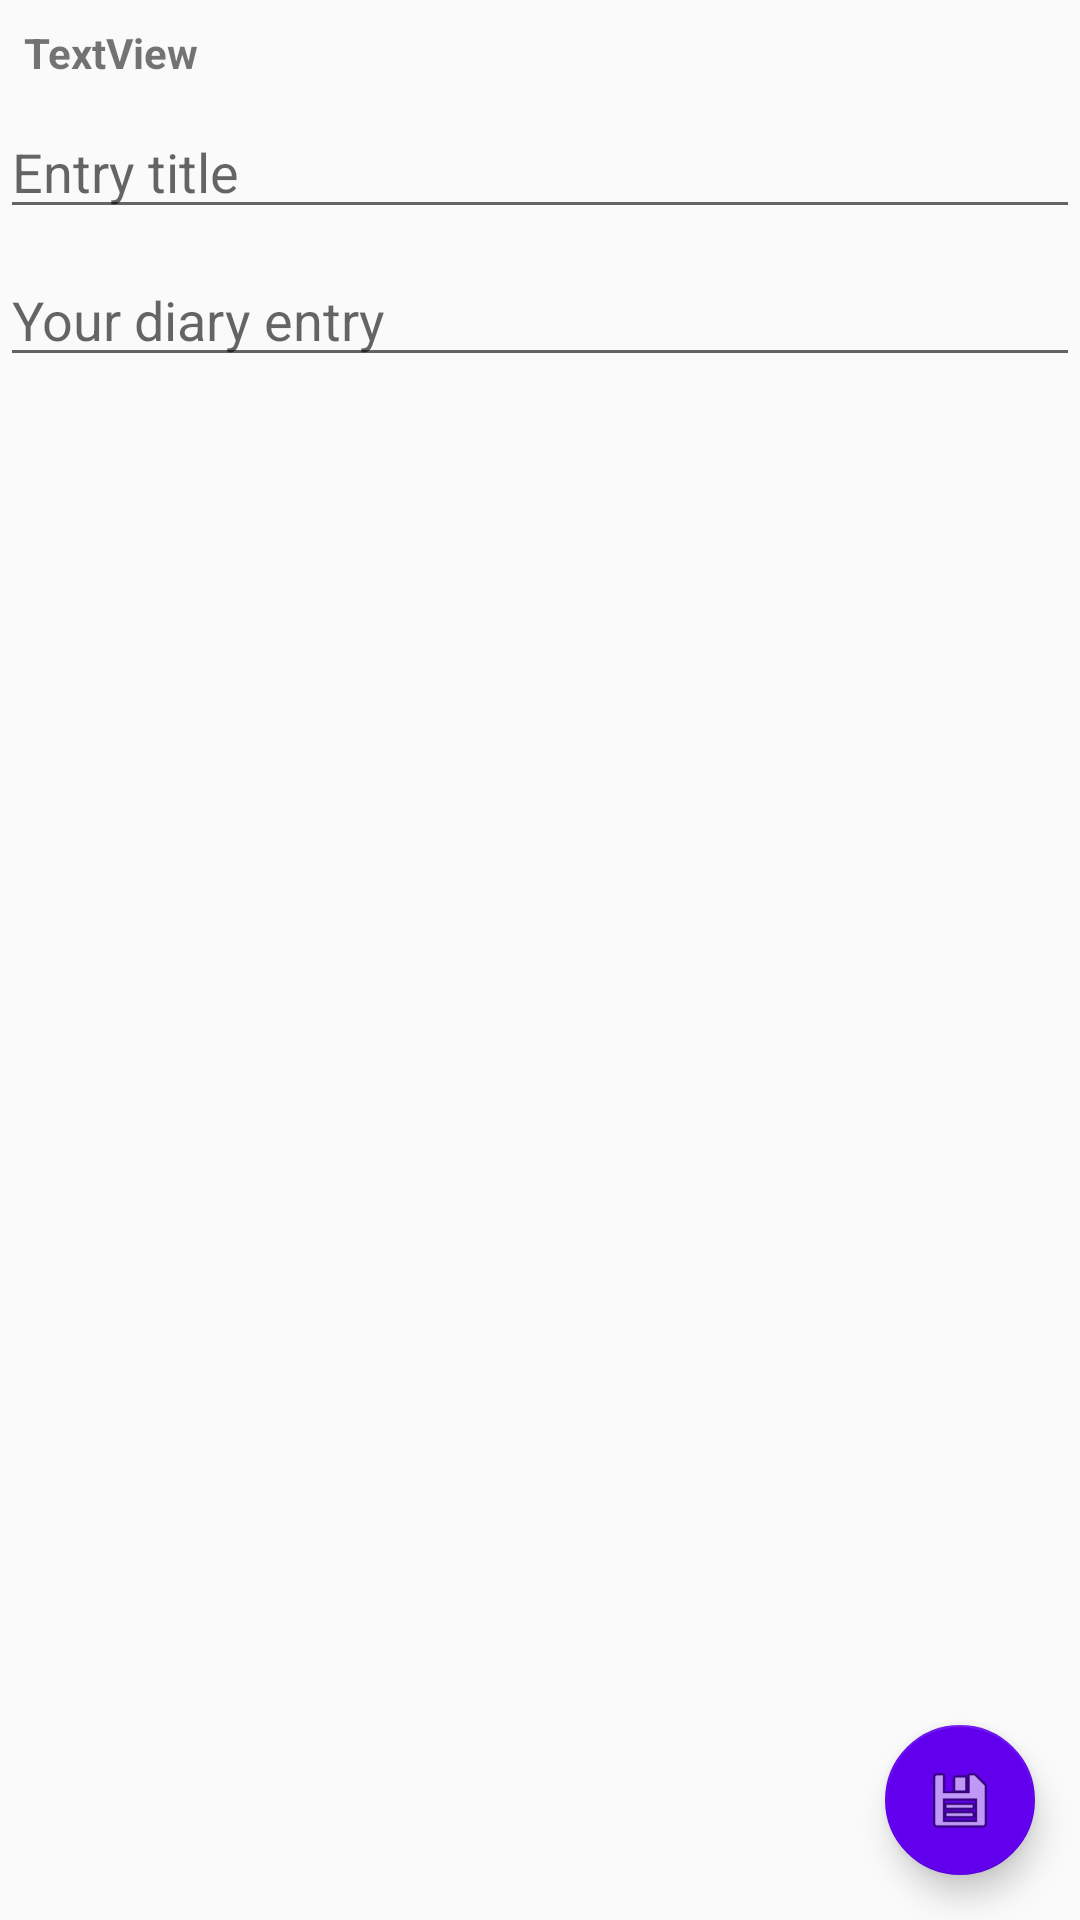

Screen size 1080px x 1920px. Icon name, then its center in pixels as (x,y):
Save diary entry: (960,1800)
